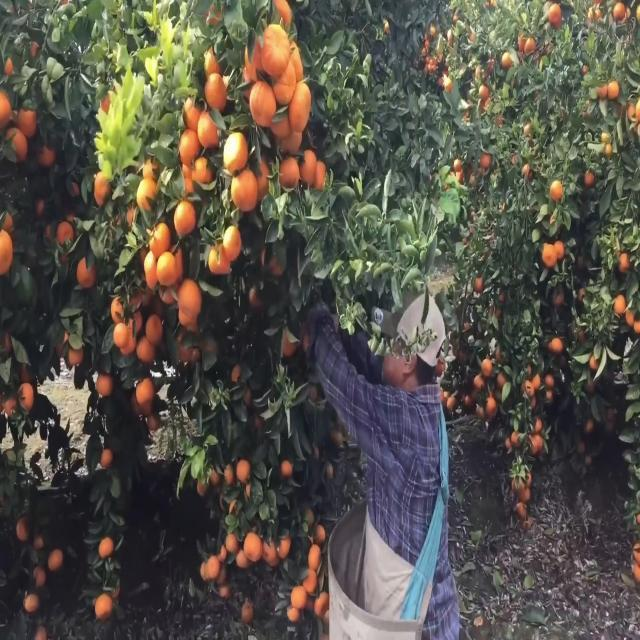Jeruk Sudah Matang: (260, 22, 290, 78), (227, 168, 259, 219), (247, 80, 280, 128), (222, 126, 250, 174), (202, 69, 228, 114), (197, 108, 224, 148), (90, 166, 112, 213), (170, 201, 198, 237), (221, 221, 243, 266), (178, 280, 204, 318), (295, 148, 317, 191), (177, 126, 200, 164), (156, 250, 178, 286), (241, 528, 263, 564), (76, 256, 99, 290), (148, 216, 170, 251), (134, 377, 158, 409), (1, 228, 16, 278), (144, 310, 164, 346), (278, 157, 298, 193), (94, 370, 116, 400), (45, 547, 69, 574), (17, 382, 37, 414), (94, 592, 115, 622), (548, 176, 566, 208), (274, 529, 293, 558), (301, 564, 317, 598), (236, 457, 252, 485), (113, 323, 129, 351), (291, 584, 308, 610), (308, 539, 322, 570), (610, 292, 626, 318), (98, 534, 115, 557), (542, 242, 557, 268), (550, 332, 563, 358), (101, 447, 115, 470), (482, 356, 493, 379)
